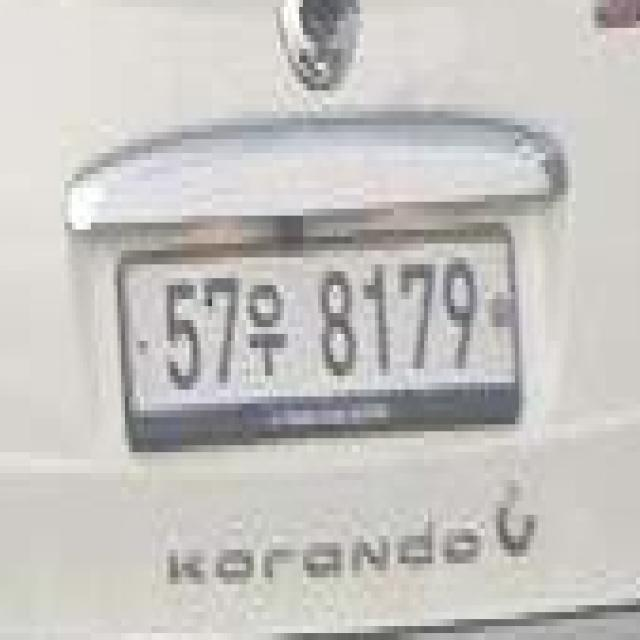1: (360, 256, 392, 377)
5: (160, 272, 200, 392)
7: (202, 266, 242, 392), (397, 254, 438, 374)
8: (317, 257, 358, 384)
9: (442, 256, 480, 374)
license_plate: (113, 232, 521, 430)
u: (246, 270, 288, 384)
